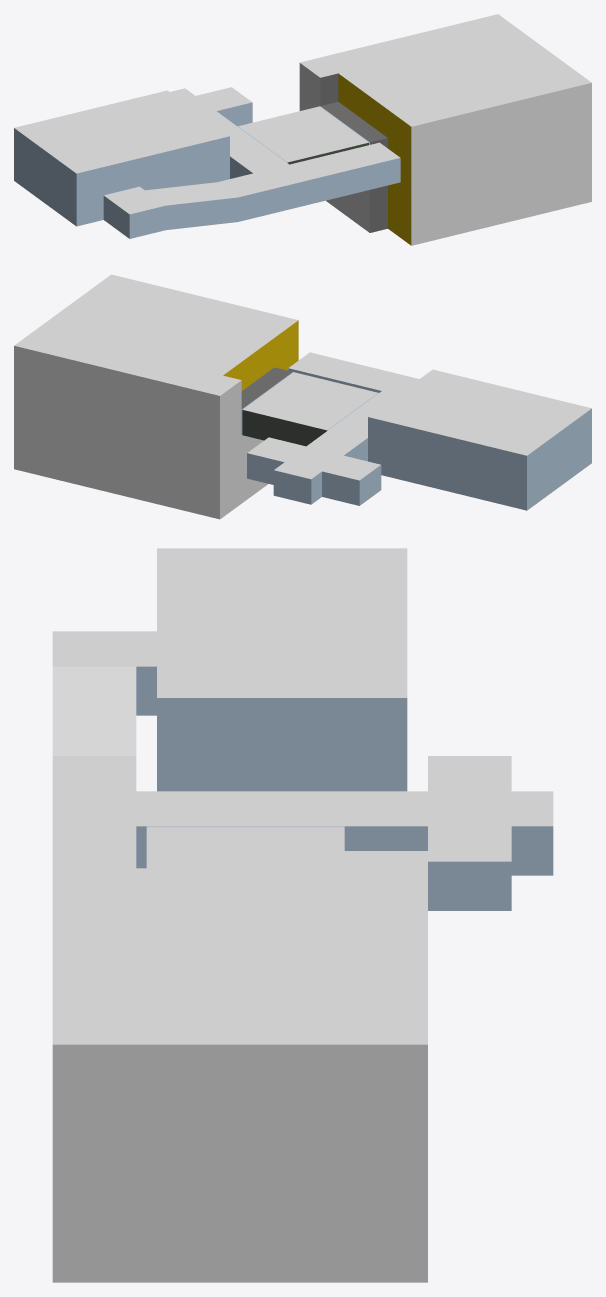
Rendered from Level1_Hallway.fbx.
3 views of the same model, one above another, from view 1: azimuth 30°, elevation 25°; view 2: azimuth 150°, elevation 25°; view 3: azimuth 270°, elevation 25° (orthographic). The views are drawn at different scales.
Parts seen in each view (by area): view 1: Cube; view 2: Cube; view 3: Cube.
Part boxes in pixels (<box>): Cube: <box>14,14,591,245</box>; Cube: <box>14,274,591,519</box>; Cube: <box>52,548,553,1282</box>.
Bounding box in the file's own units: 5420 × 1360 × 2400.
